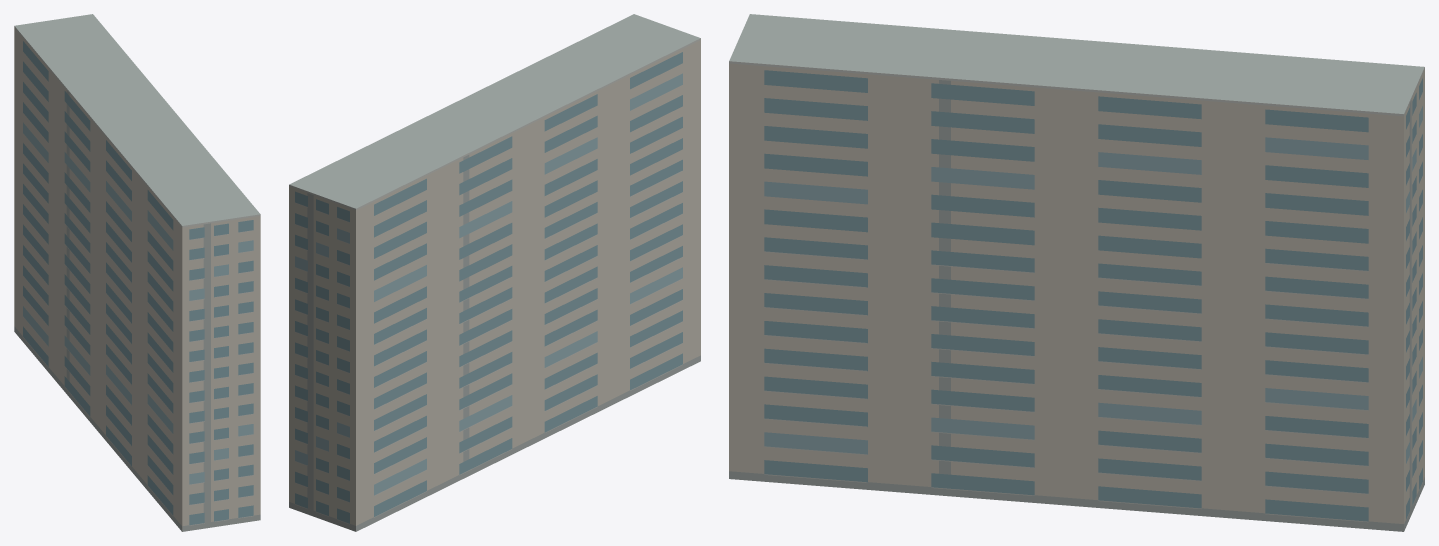
File: residential-8eabcf9e-a24c-480a-be2e-ebcbdbabde49.glb
3 views of the same model, side by side, from view 1: azimuth 30°, elevation 25°; view 2: azimuth 150°, elevation 25°; view 3: azimuth 270°, elevation 25° (orthographic). The views are drawn at different scales.
Parts seen in each view (by area): view 1: residential-8eabcf9e-a24c-480a-be2e-ebcbdbabde49.tmp; view 2: residential-8eabcf9e-a24c-480a-be2e-ebcbdbabde49.tmp; view 3: residential-8eabcf9e-a24c-480a-be2e-ebcbdbabde49.tmp.
Boxes of the visible parts, bbox=[...] form: residential-8eabcf9e-a24c-480a-be2e-ebcbdbabde49.tmp: bbox=[14, 14, 260, 531]; residential-8eabcf9e-a24c-480a-be2e-ebcbdbabde49.tmp: bbox=[289, 14, 700, 531]; residential-8eabcf9e-a24c-480a-be2e-ebcbdbabde49.tmp: bbox=[729, 14, 1424, 531].
Size of the model in its own units: 23.54 by 45.75 by 69.06.
